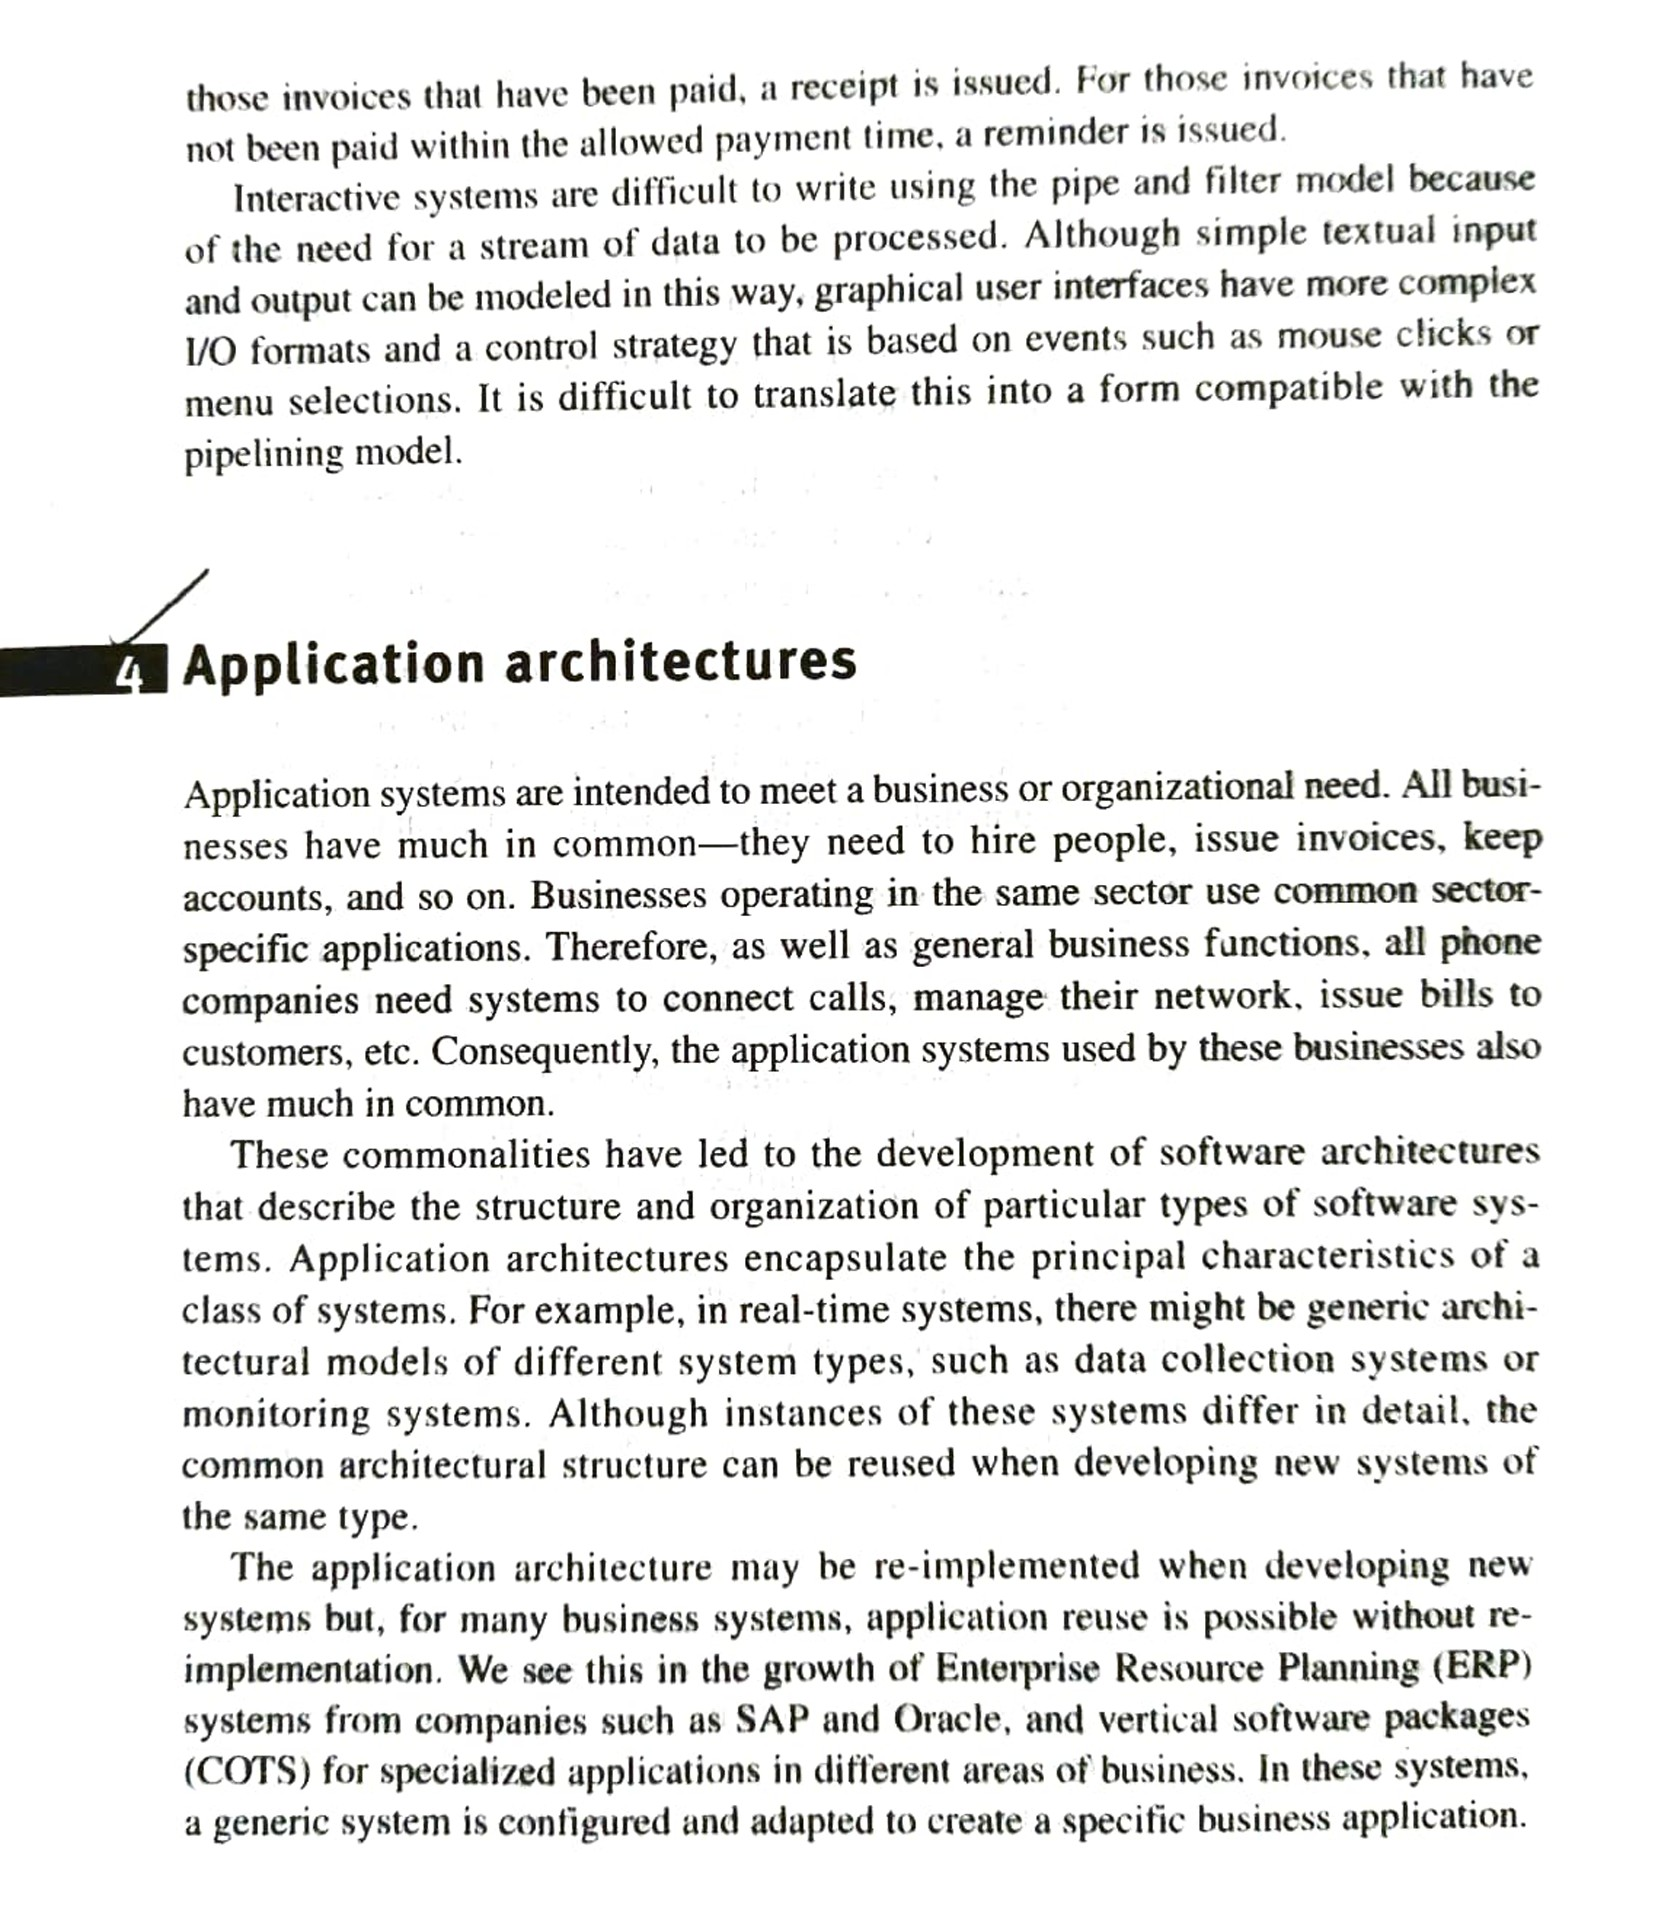BB1: (115, 45, 1612, 508)
BB2: (149, 1121, 1584, 1538), (146, 755, 1581, 1126)
BB3: (149, 1535, 1581, 1865)
